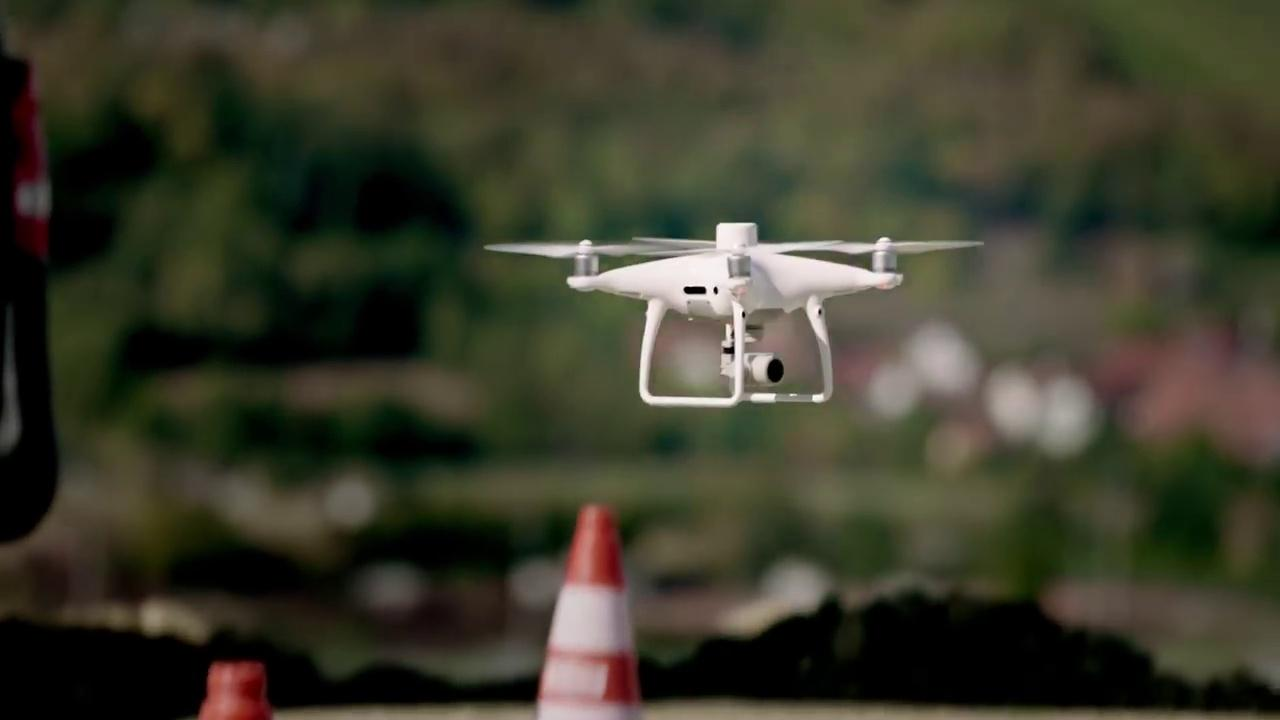drone: (481, 220, 991, 409)
